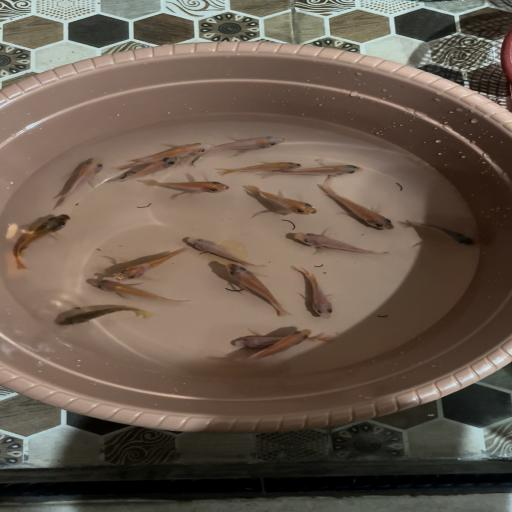nila: (217, 262, 294, 320), (315, 182, 396, 232), (8, 210, 72, 273), (82, 276, 197, 308), (225, 327, 338, 358), (180, 233, 272, 271), (194, 131, 288, 168), (281, 230, 396, 260), (240, 324, 312, 370), (45, 155, 104, 210), (286, 263, 340, 323), (115, 140, 214, 172), (113, 244, 192, 283), (396, 216, 478, 251), (239, 184, 322, 218), (96, 156, 183, 188), (52, 303, 152, 330), (136, 174, 236, 197), (264, 160, 368, 179), (217, 158, 302, 179)
